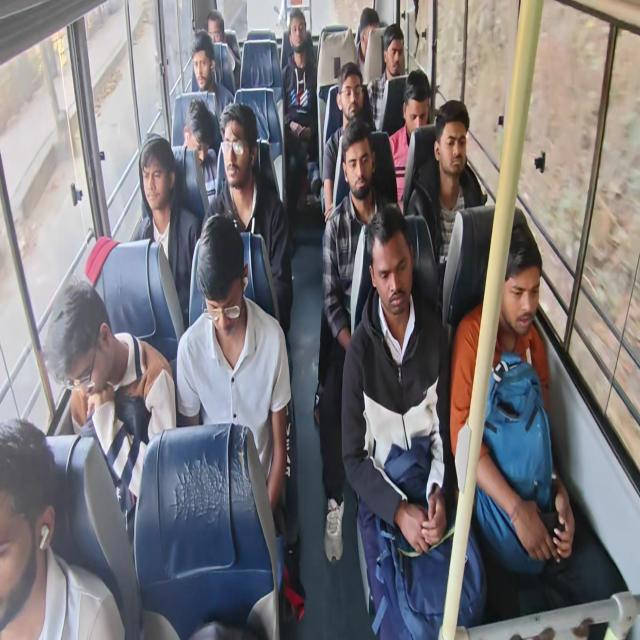person: (0, 433, 60, 624), (49, 304, 123, 400), (495, 234, 549, 338), (206, 233, 254, 337), (371, 224, 418, 317), (215, 124, 253, 198), (436, 119, 475, 191), (177, 100, 218, 162), (345, 134, 374, 208), (141, 148, 170, 208), (201, 0, 234, 51), (357, 6, 384, 61), (399, 94, 431, 140), (379, 29, 405, 82), (340, 71, 363, 126), (282, 12, 310, 52), (191, 50, 212, 89)
